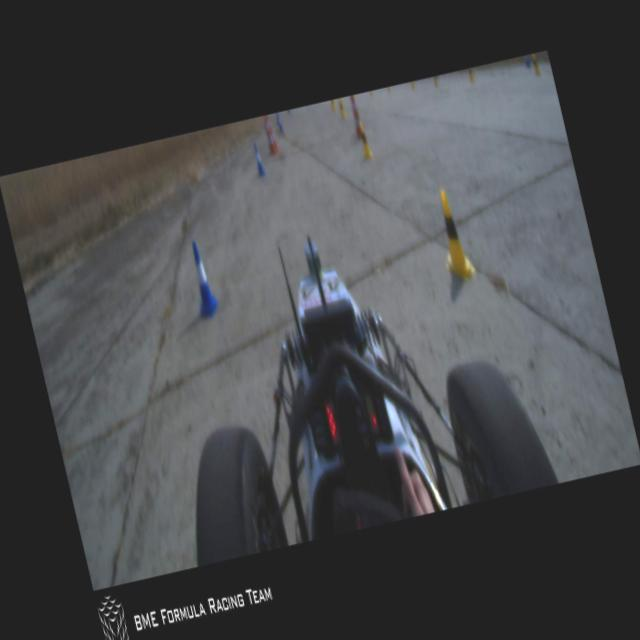blue_cone: (182, 240, 222, 320), (250, 142, 266, 176)
large_orange_cone: (346, 94, 366, 141), (260, 115, 277, 156), (265, 114, 279, 154)
yellow_cone: (429, 186, 476, 285), (355, 120, 373, 160), (336, 99, 346, 119)
